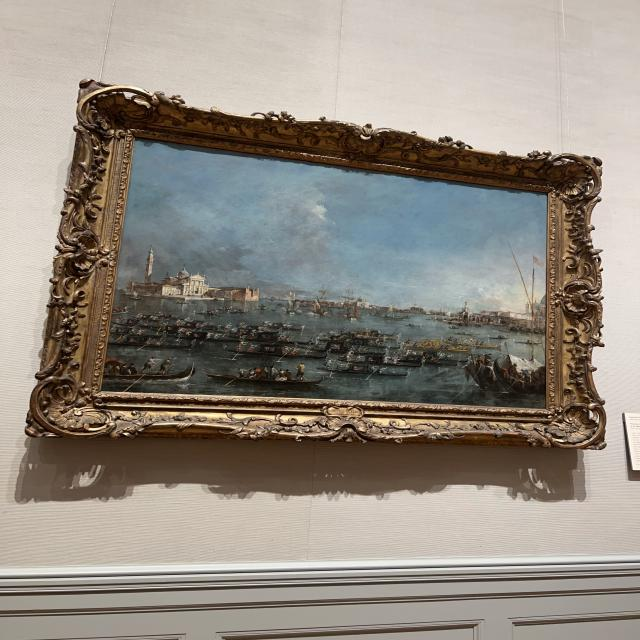ships: (100, 137, 547, 409)
